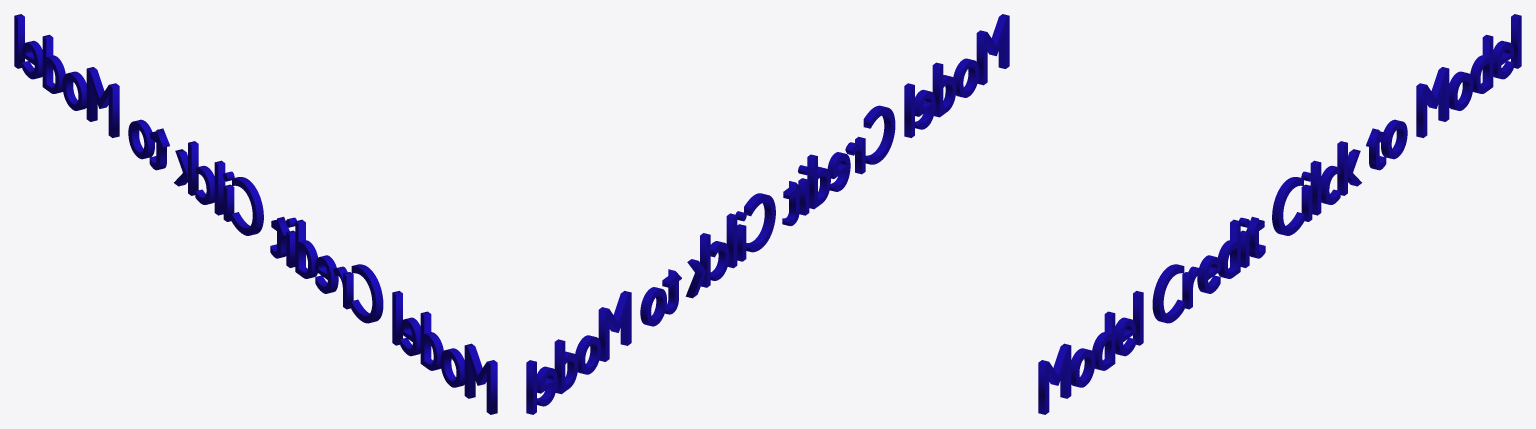
The model's file is ModelCredit.glb.
3 renders of one model, left to right at view 1: azimuth 30°, elevation 25°; view 2: azimuth 150°, elevation 25°; view 3: azimuth 330°, elevation 25°, orthographic.
Visible parts, largest first — view 1: Text.001; view 2: Text.001; view 3: Text.001.
Part boxes in pixels (x1,y1,x2,y2): Text.001: (14,14,497,414); Text.001: (526,14,1009,414); Text.001: (1038,14,1521,414).
Size of the model in its own units: 0.07 by 0.49 by 8.15.
